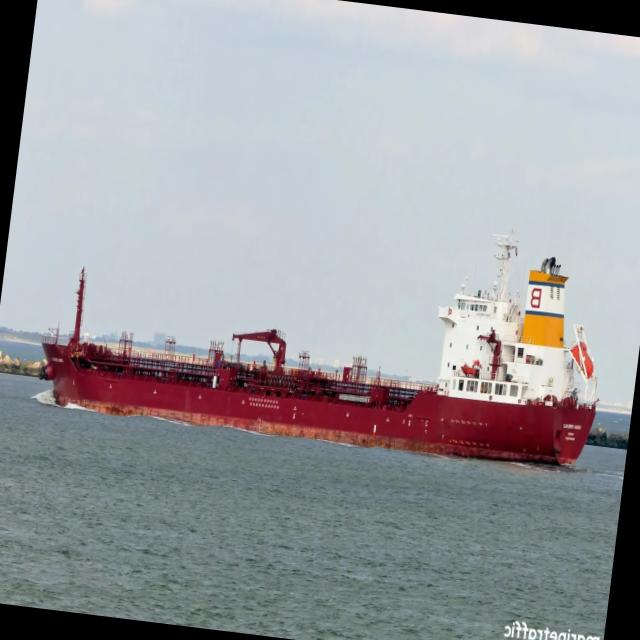Tanker: (40, 235, 596, 464)
